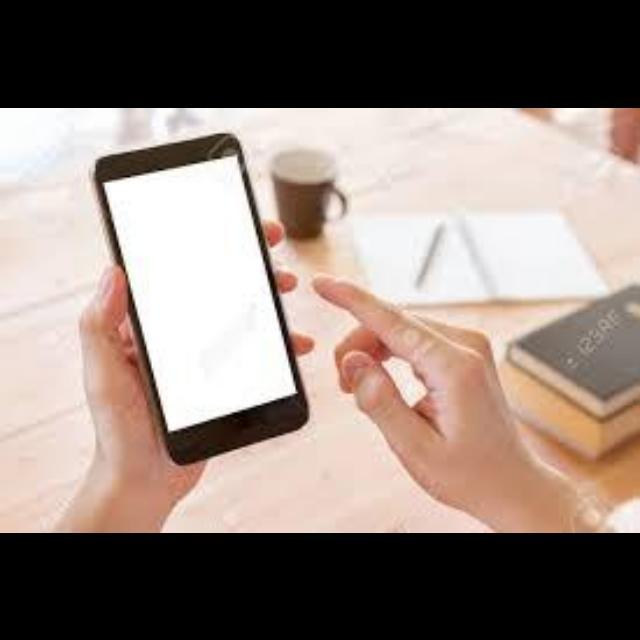Phone: (91, 130, 309, 466)
